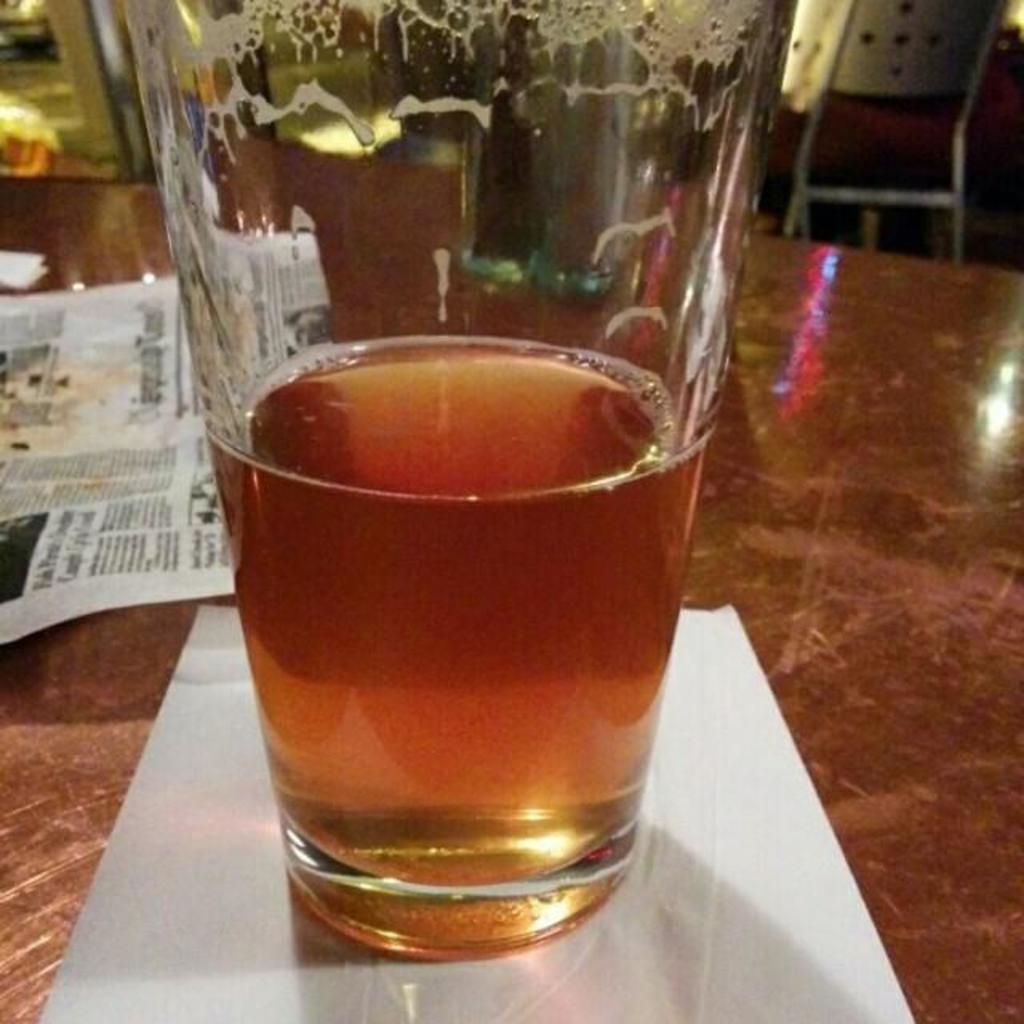Beer: (201, 326, 713, 899)
